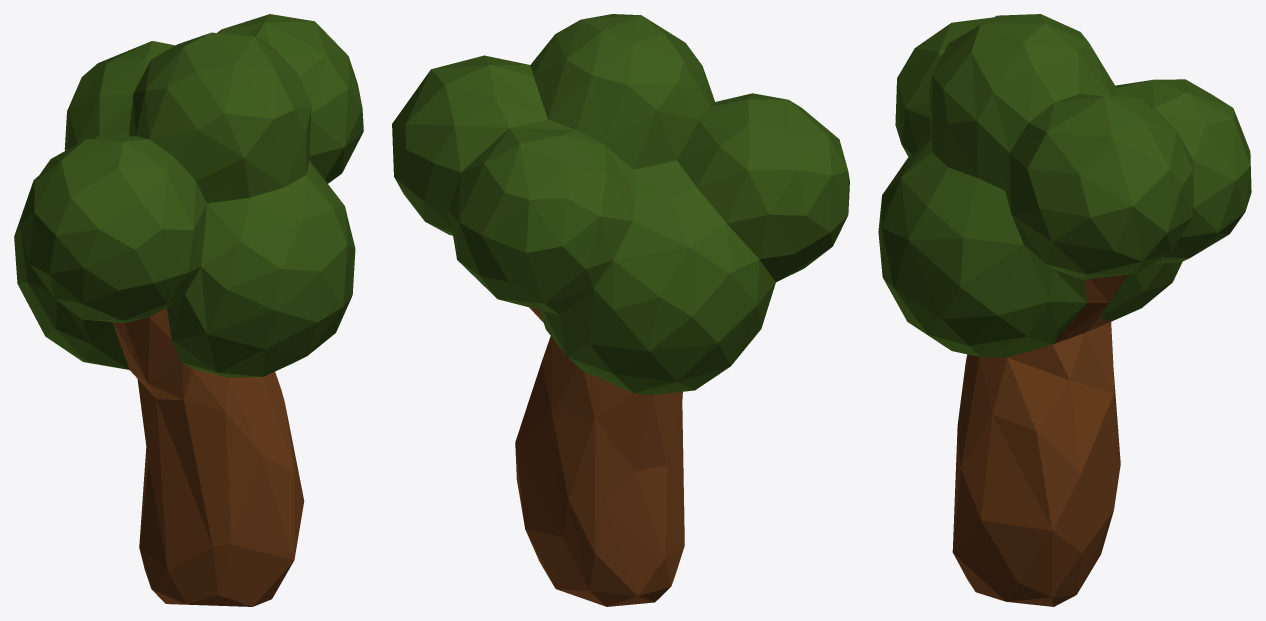
Rendered from Agac004.fbx.
3 renders of one model, left to right at view 1: azimuth 30°, elevation 25°; view 2: azimuth 150°, elevation 25°; view 3: azimuth 270°, elevation 25°, orthographic.
Parts seen in each view (by area): view 1: Cube.012; view 2: Cube.012; view 3: Cube.012.
Part boxes in pixels (x1,y1,x2,y2): Cube.012: (14, 14, 363, 606); Cube.012: (392, 14, 849, 606); Cube.012: (878, 14, 1251, 606).
Size of the model in its own units: 2.82 by 2.41 by 4.03.
